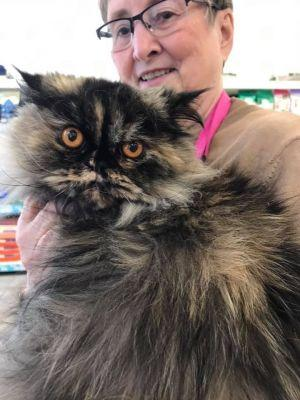persian: (8, 65, 207, 240)
